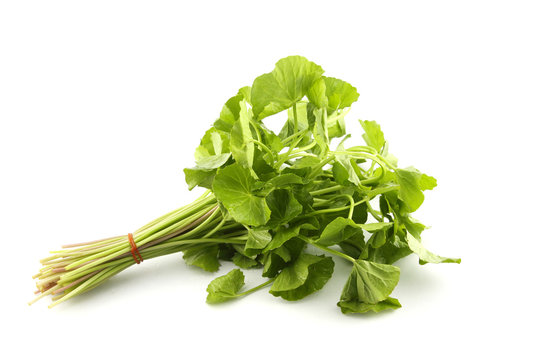Bayam: (23, 14, 487, 353)
